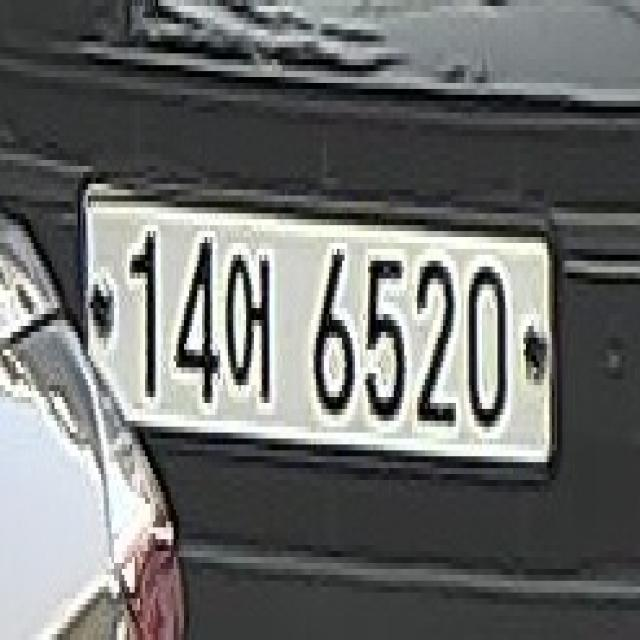0: (464, 249, 513, 450)
1: (122, 213, 168, 421)
2: (409, 249, 462, 444)
4: (173, 225, 226, 427)
5: (360, 243, 407, 438)
6: (306, 231, 360, 433)
eo: (225, 231, 278, 415)
license_plate: (73, 166, 562, 492)
